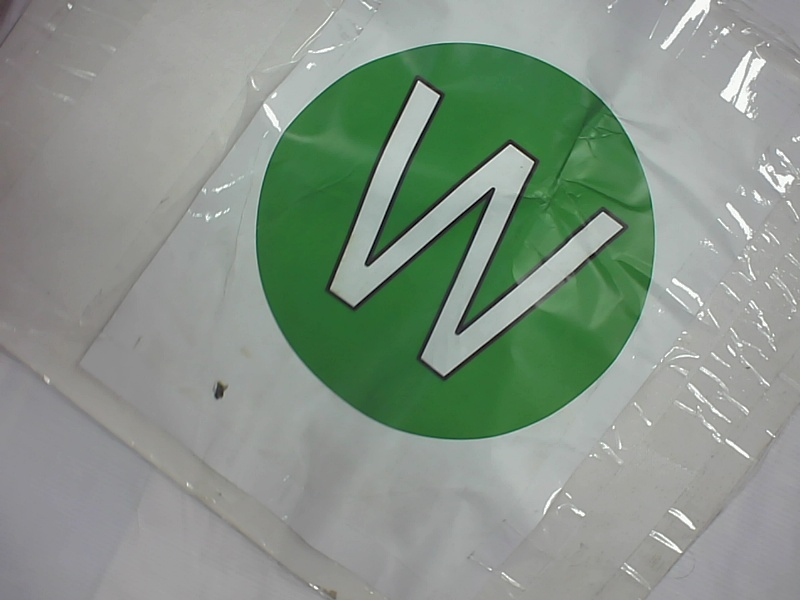areaB: (244, 34, 664, 449)
